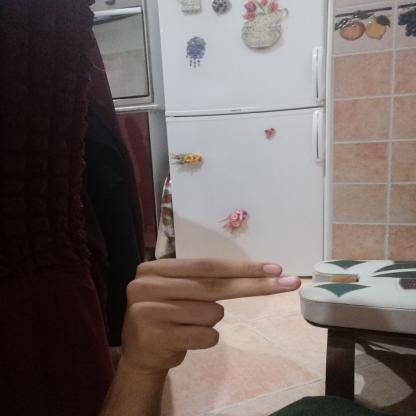AYN: (102, 240, 319, 383)
